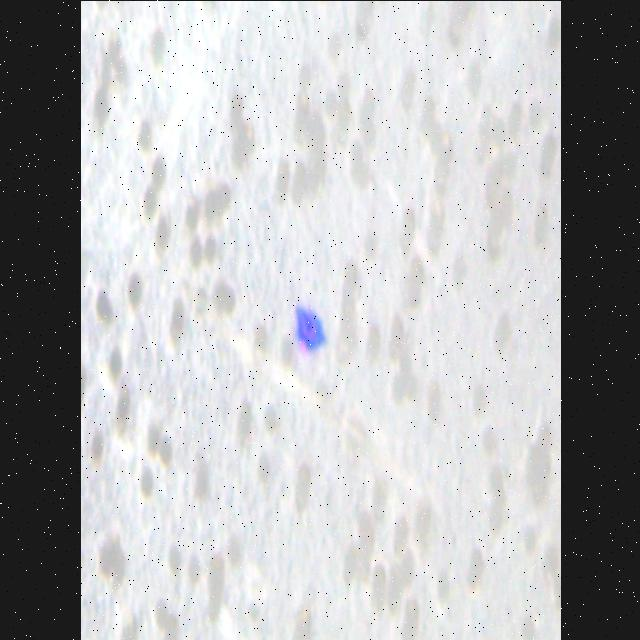Fibre: (286, 288, 326, 372)
